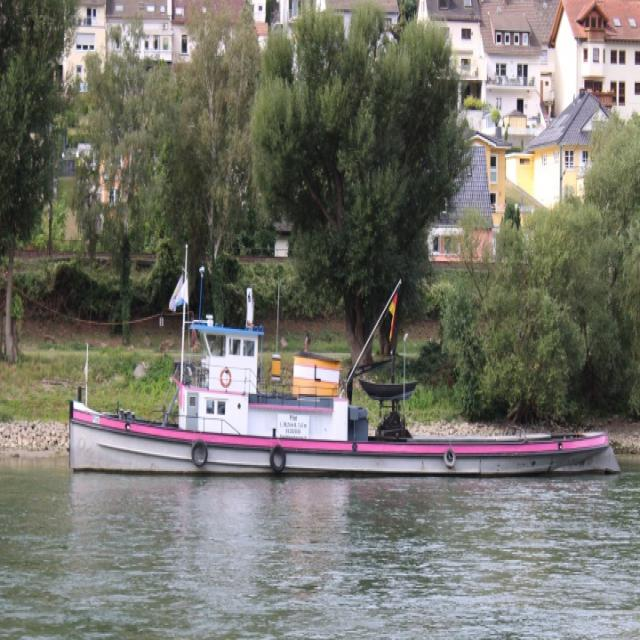tugboat: (66, 240, 626, 496)
